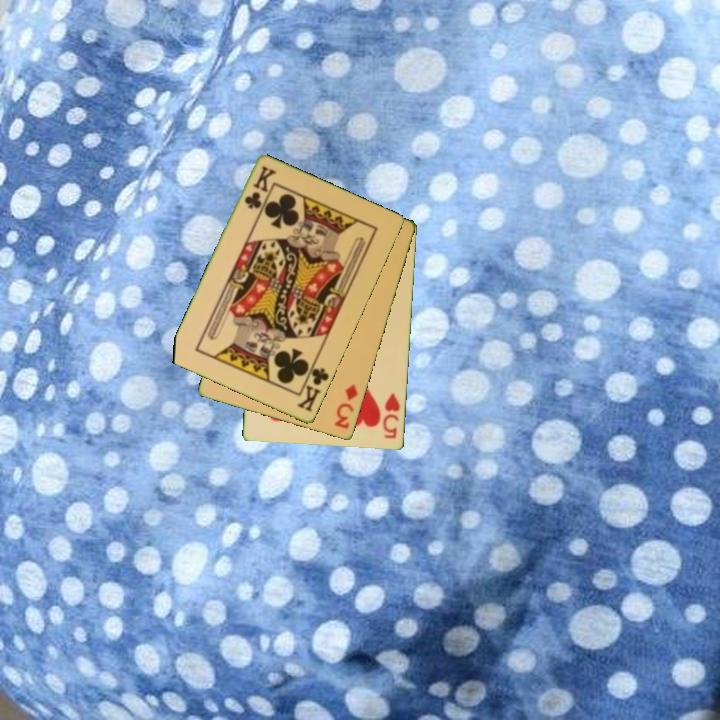3d: (331, 381, 361, 432)
5h: (379, 389, 403, 442)
Kc: (294, 359, 332, 415), (241, 162, 278, 212)
